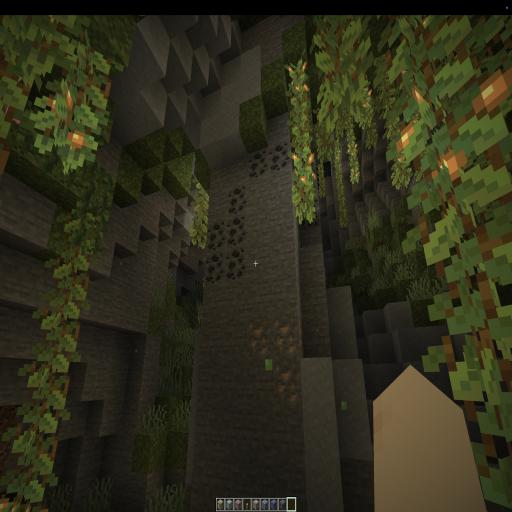coal ore: (208, 190, 246, 282), (245, 142, 294, 182)
iron ore: (244, 316, 300, 409)
